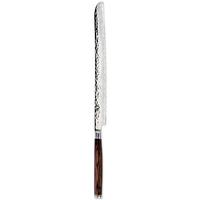knife: (84, 1, 113, 200)
